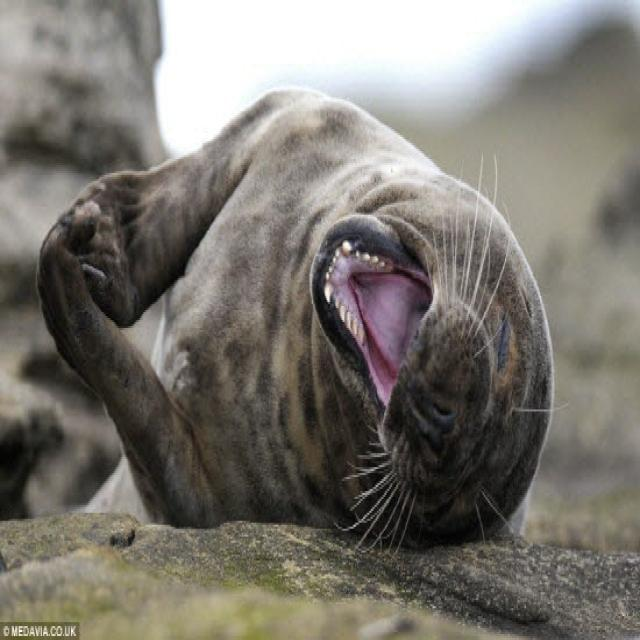WaterDog: (30, 85, 554, 565)
